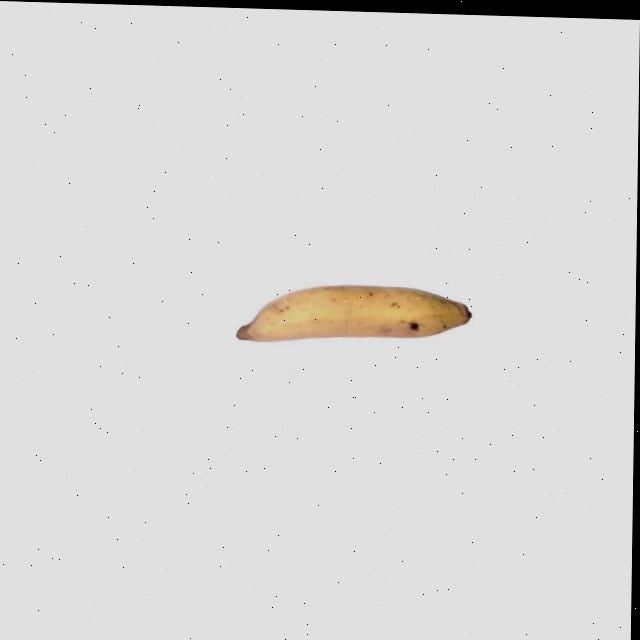banana: (231, 278, 477, 350)
